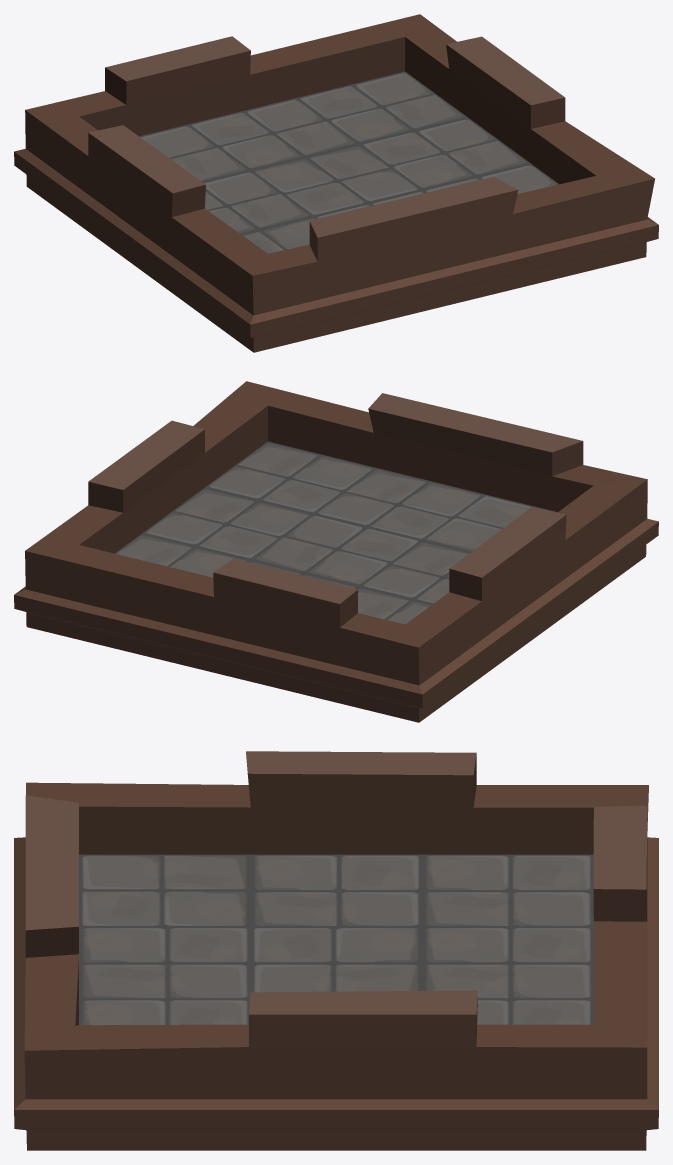
File: RoofTop_E07.fbx
3 renders of one model, top to bottom at view 1: azimuth 30°, elevation 25°; view 2: azimuth 150°, elevation 25°; view 3: azimuth 270°, elevation 25°, orthographic. The views are drawn at different scales.
Parts seen in each view (by area): view 1: RoofTop_E07; view 2: RoofTop_E07; view 3: RoofTop_E07.
Part boxes in pixels (box(x1,y1,x2,y2)): RoofTop_E07: box(14, 14, 658, 352); RoofTop_E07: box(14, 381, 658, 722); RoofTop_E07: box(14, 751, 658, 1150).
Bounding box in the file's own units: 638 × 150 × 639.
